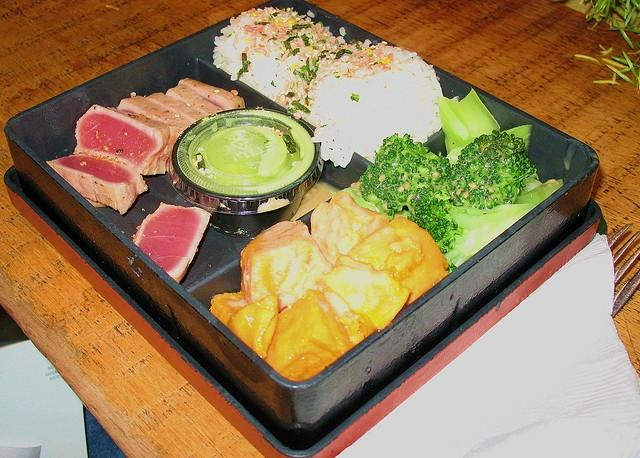broccoli: (406, 186, 531, 252), (449, 129, 540, 210)
